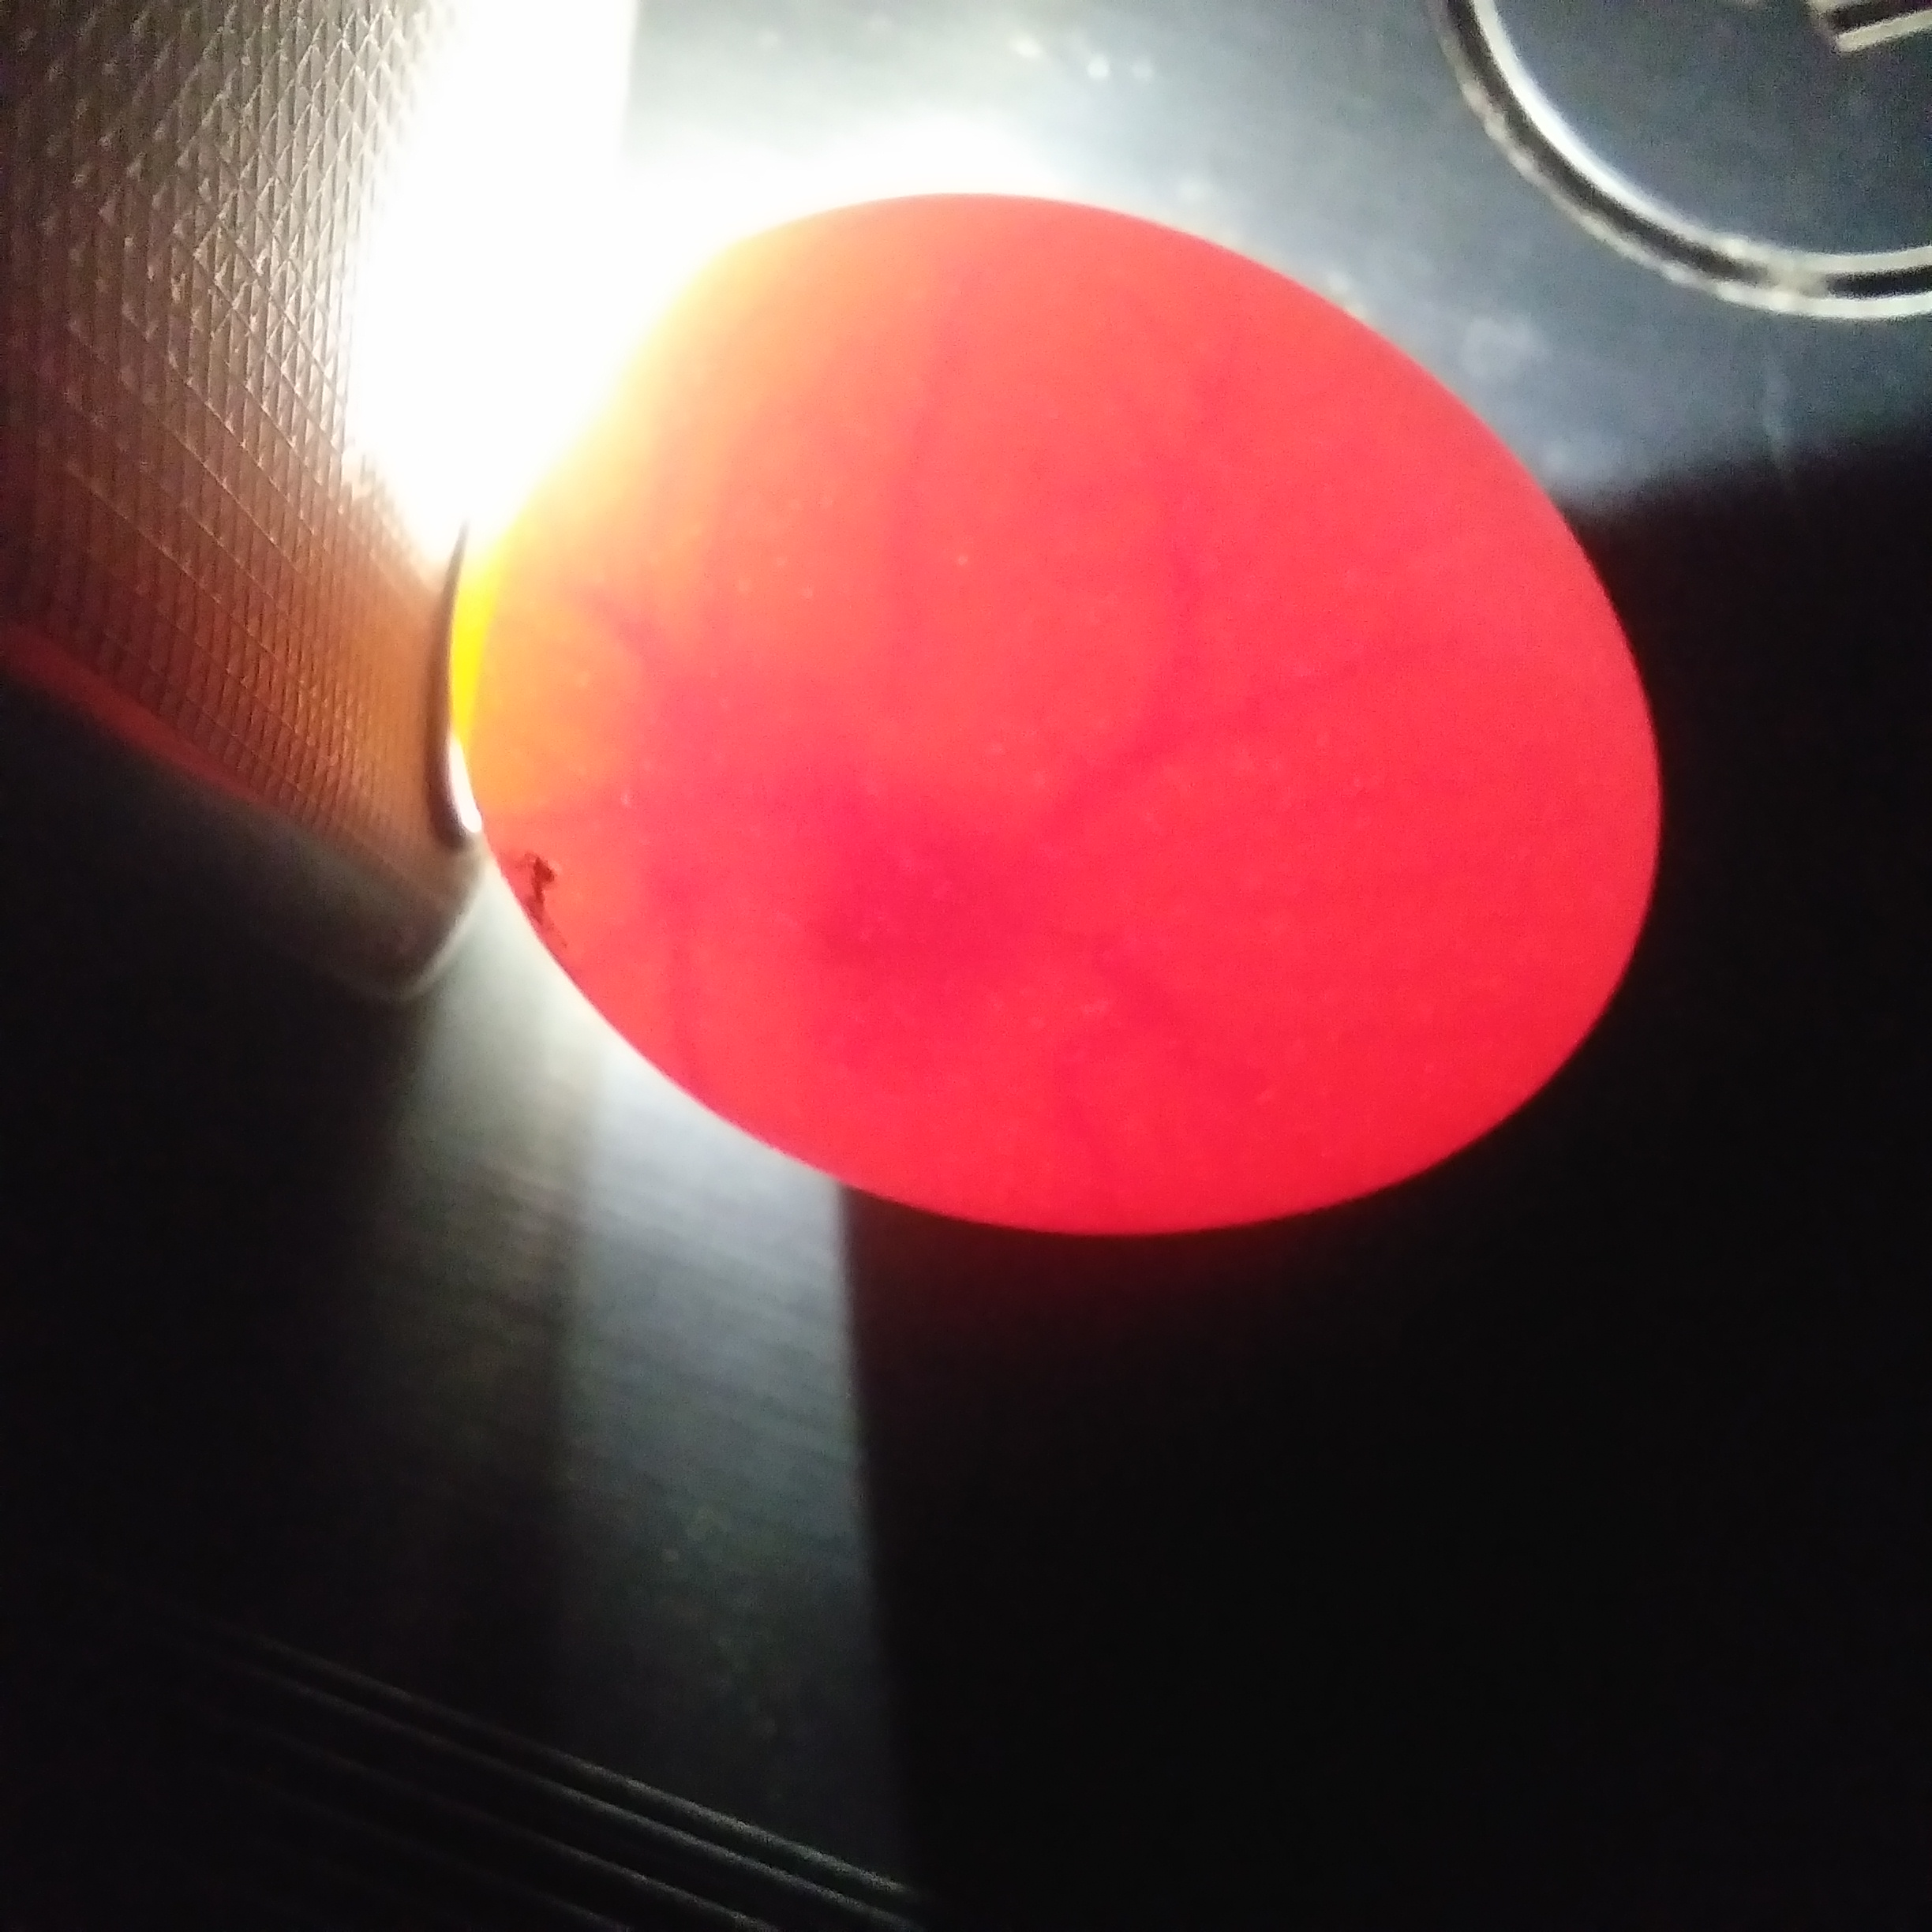bloodcell: (540, 548, 777, 747), (527, 805, 745, 925)
embryo: (796, 819, 1008, 987)
